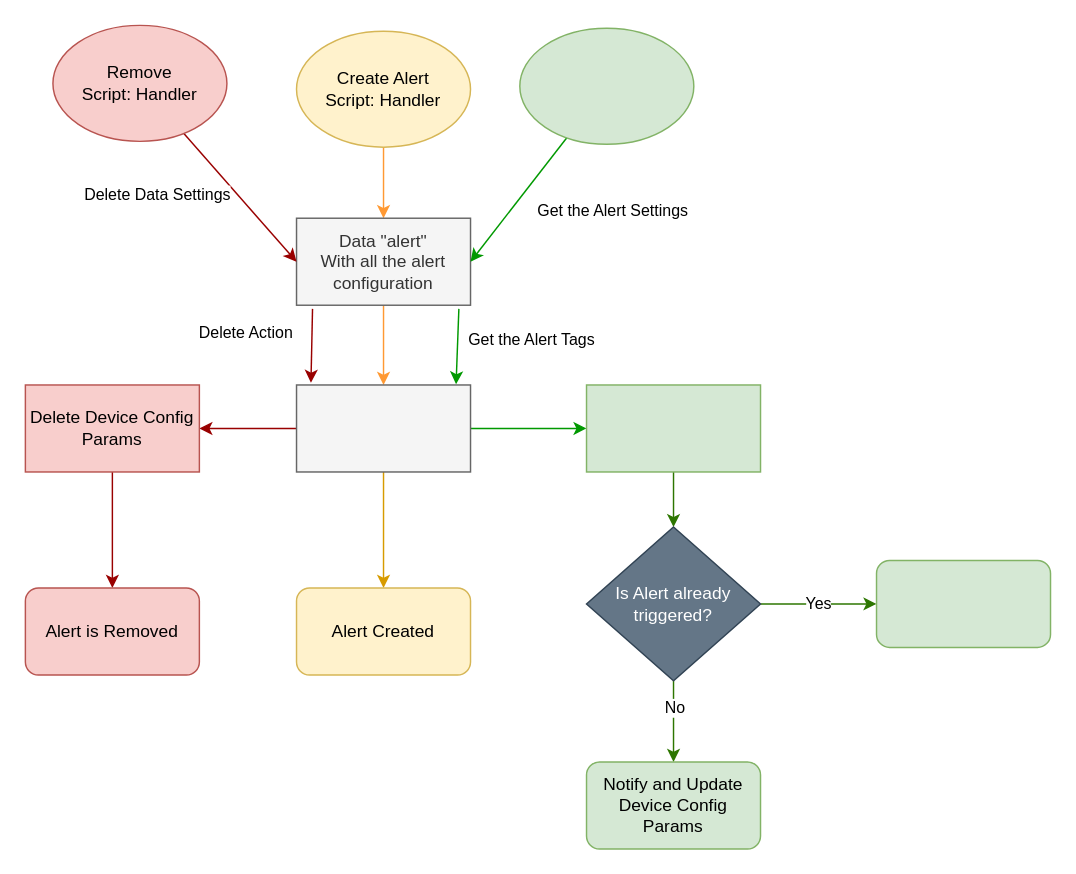
Some shapes in this 1076 by 874 pixel diagram are drawn without their labels. The shapes that lost their labels are listed below. From the top down, each one's centre as x and y in pixels, then its label:
pixel 606 85: Trigger Alert Script: Alert Trigger
pixel 383 428: Action is Created with tags
pixel 673 428: Get Device Config Params
pixel 963 603: Stop
